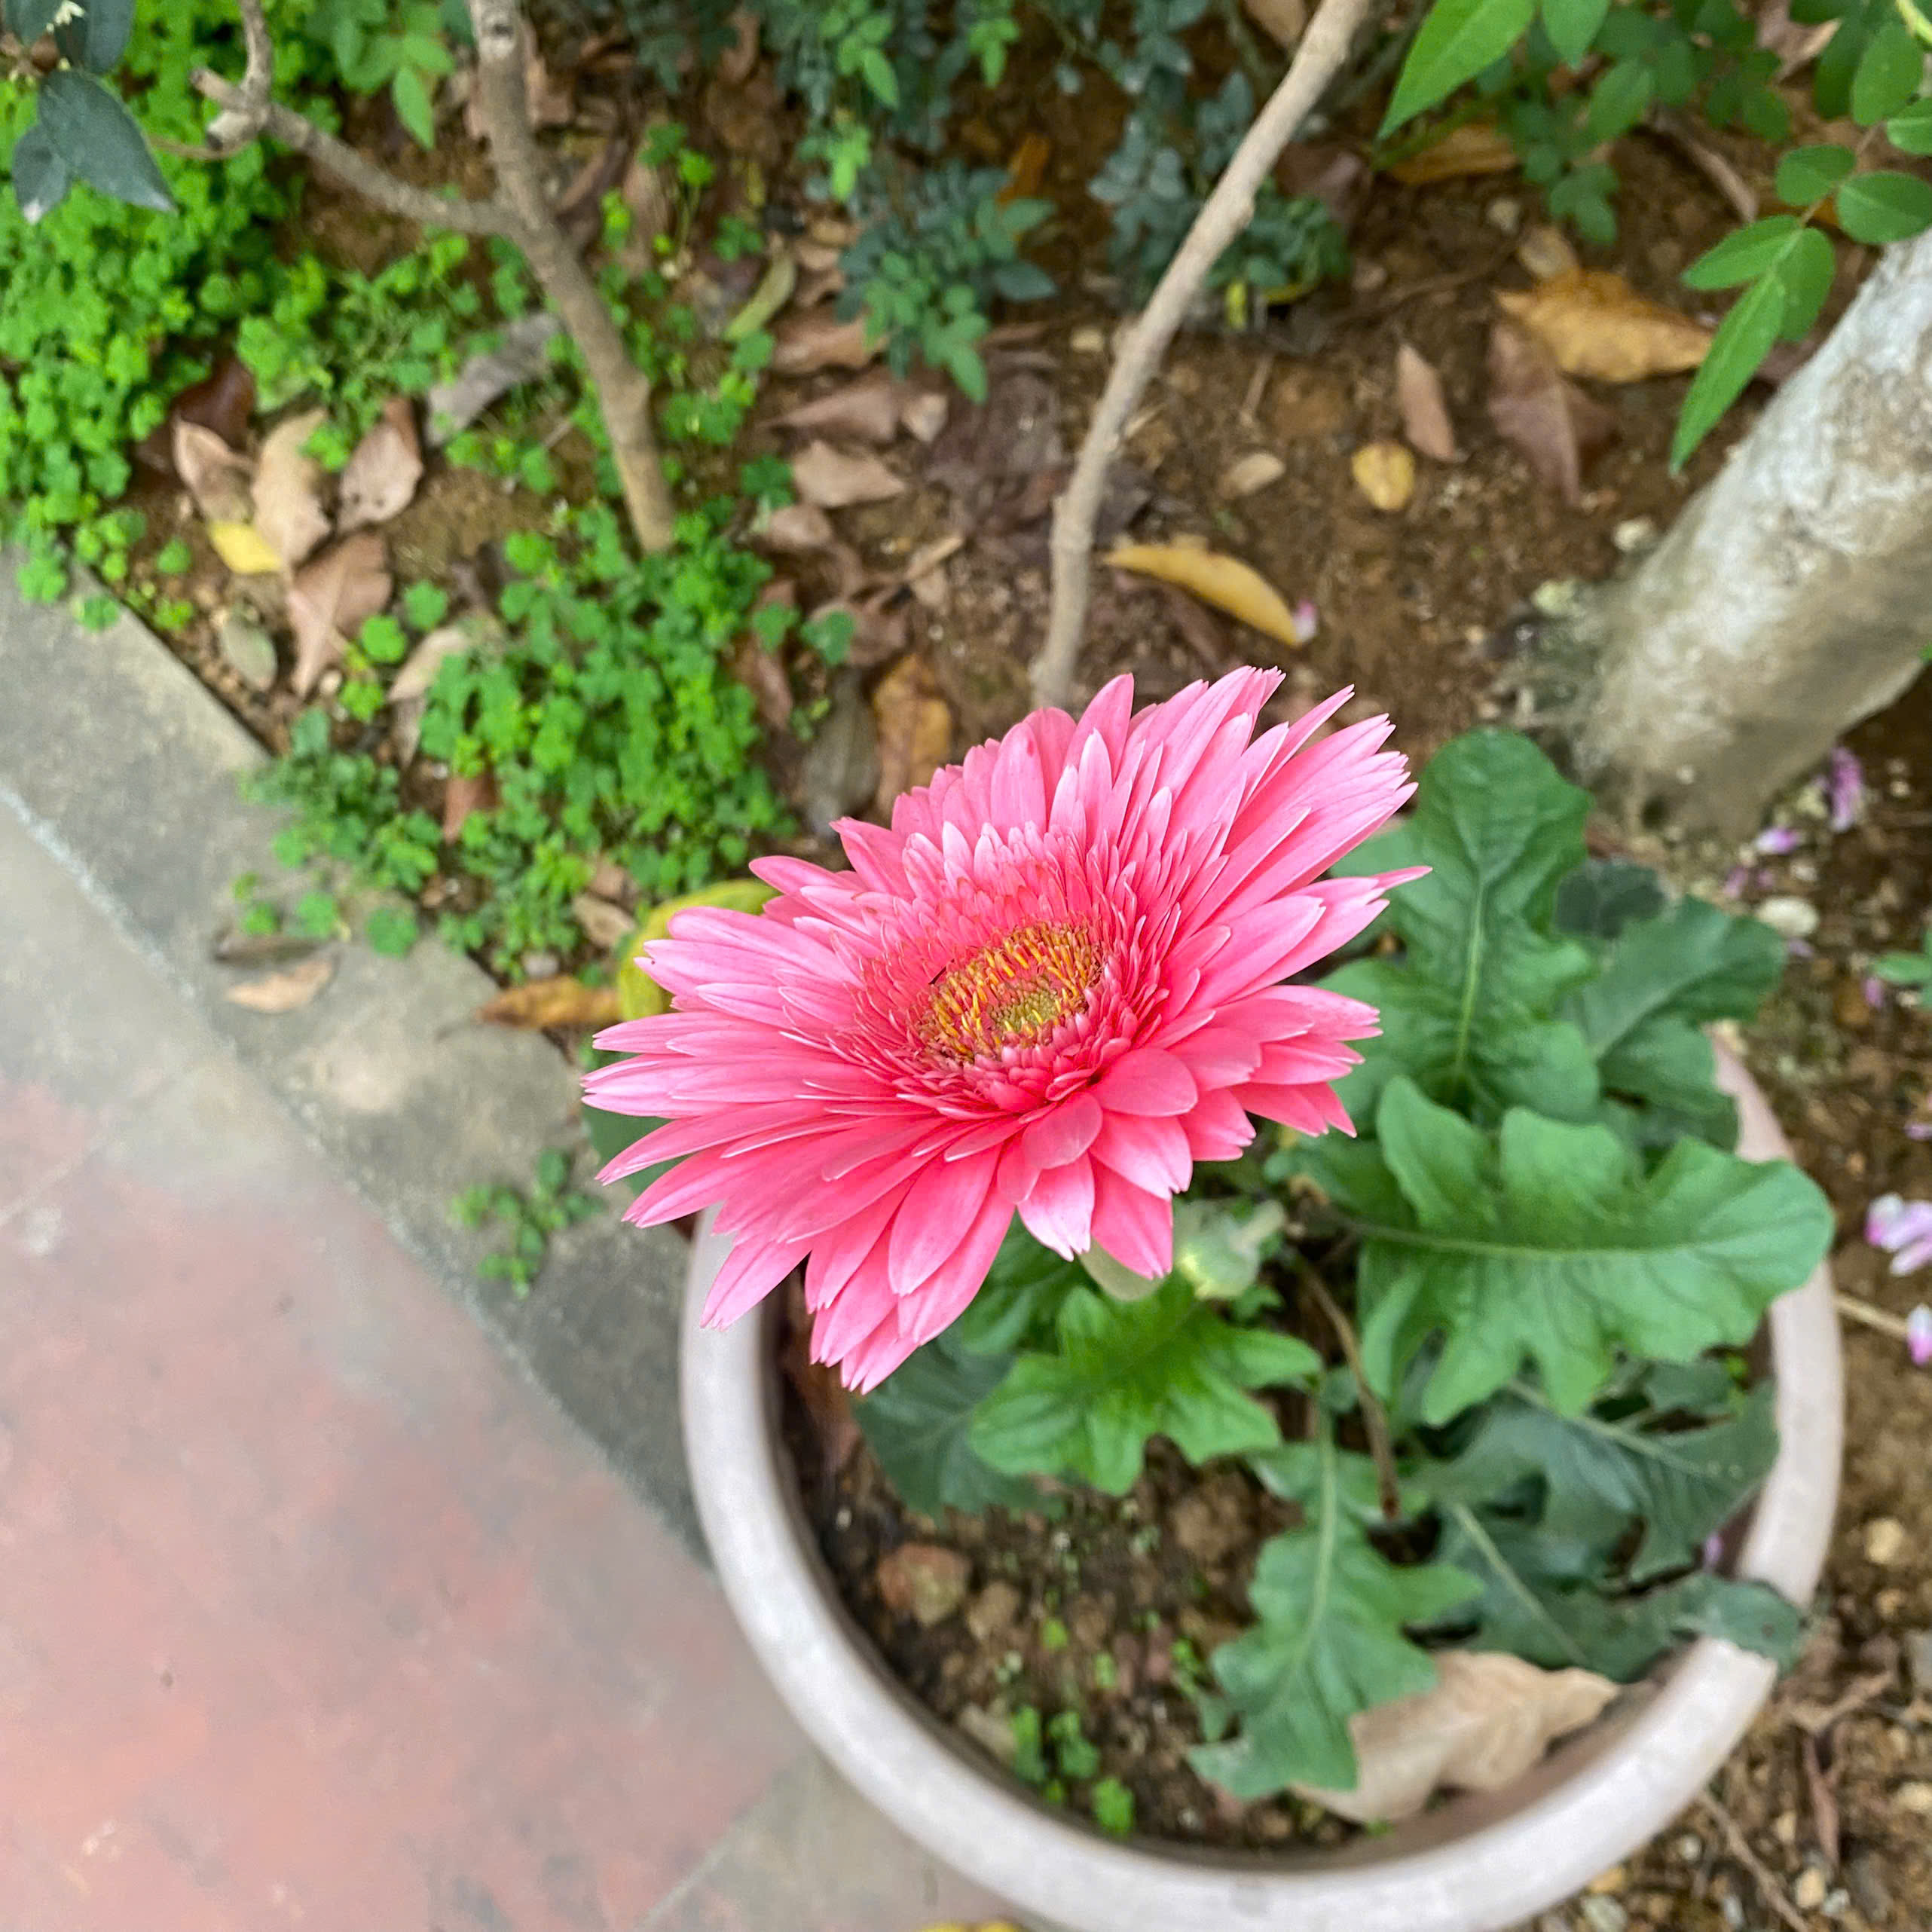hoa_huong_duong: (536, 598, 1872, 1890)
